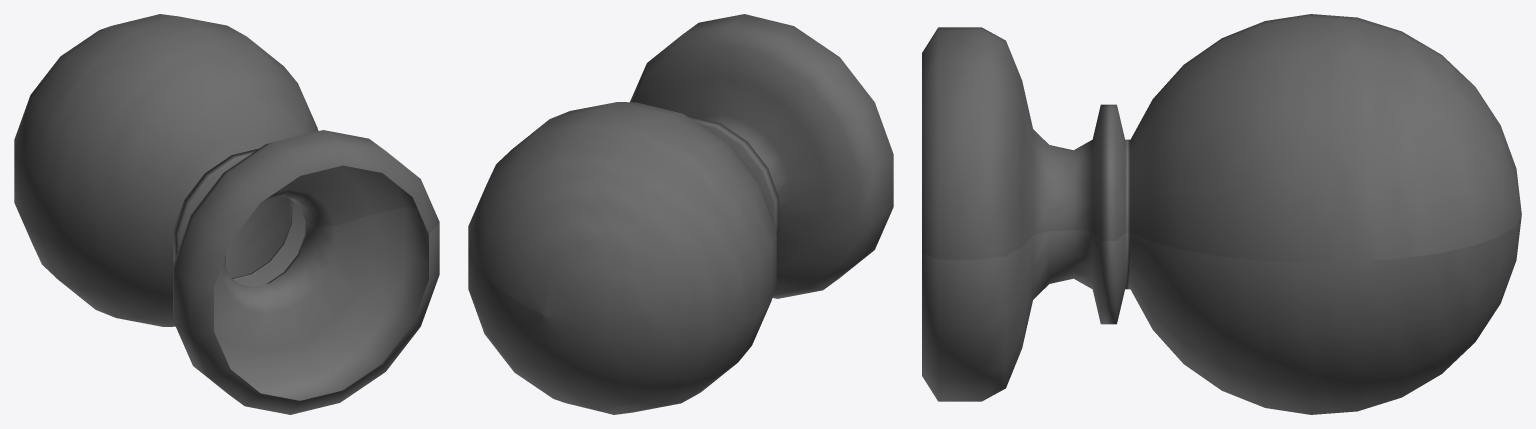
The model's file is pedestalpole_ball_n.obj.
3 views of the same model, side by side, from view 1: azimuth 30°, elevation 25°; view 2: azimuth 150°, elevation 25°; view 3: azimuth 270°, elevation 25° (orthographic). The views are drawn at different scales.
Visible parts, largest first — view 1: pedestalpole_ball_n; view 2: pedestalpole_ball_n; view 3: pedestalpole_ball_n.
Part boxes in pixels (bbox=[...]): pedestalpole_ball_n: bbox=[14, 14, 439, 414]; pedestalpole_ball_n: bbox=[468, 14, 893, 414]; pedestalpole_ball_n: bbox=[922, 14, 1521, 414].
Size of the model in its own units: 0.4594 by 0.4594 by 0.6924.
